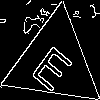E: (29, 36, 80, 94)
